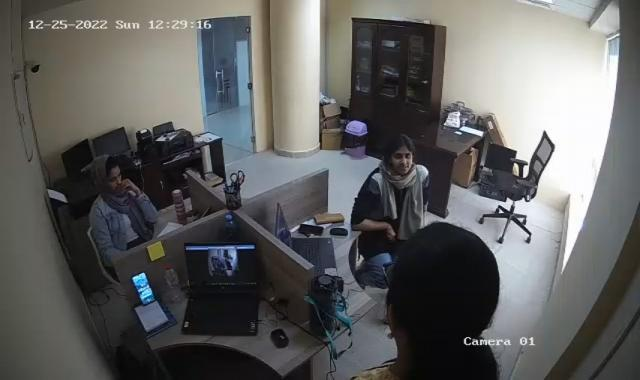no_hairnet: (380, 220, 498, 354), (384, 132, 414, 174), (94, 154, 122, 186)
